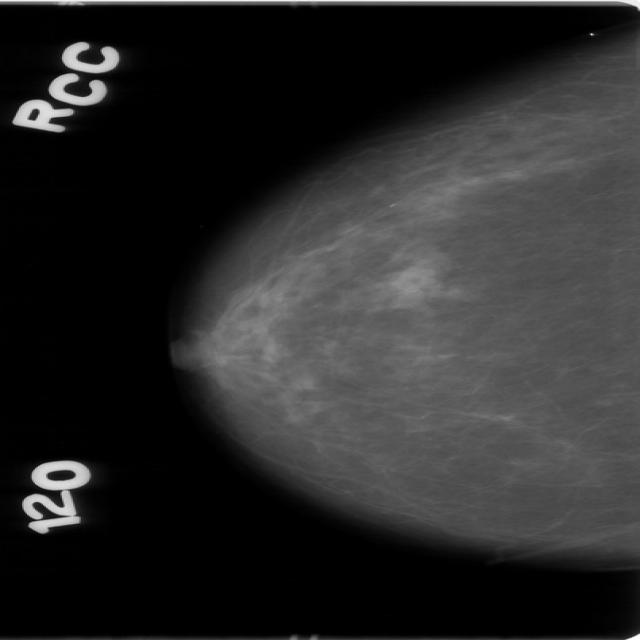tumour: (386, 261, 438, 295)
